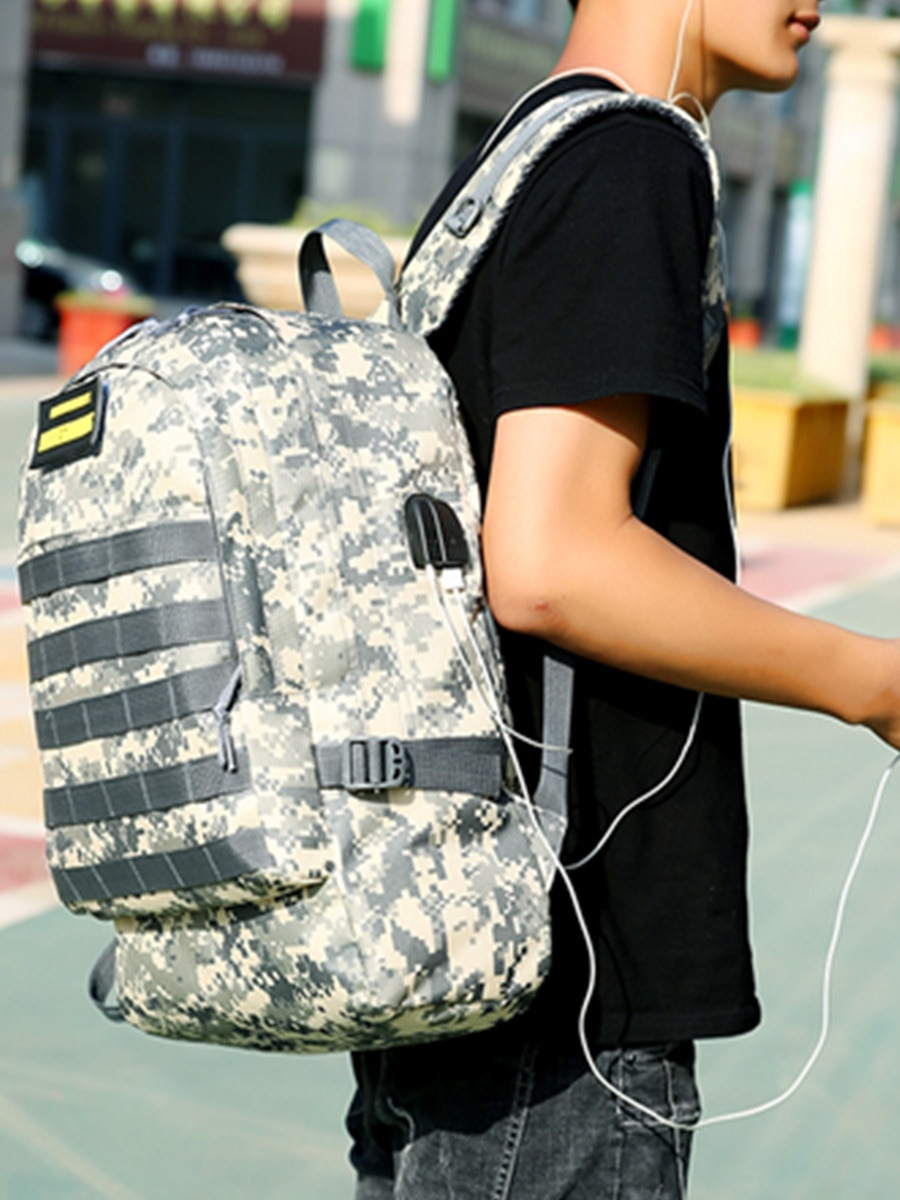Men's Backpacks: (19, 139, 570, 1052)
Tops|T-shirts & Tanks: (410, 77, 768, 1043)
